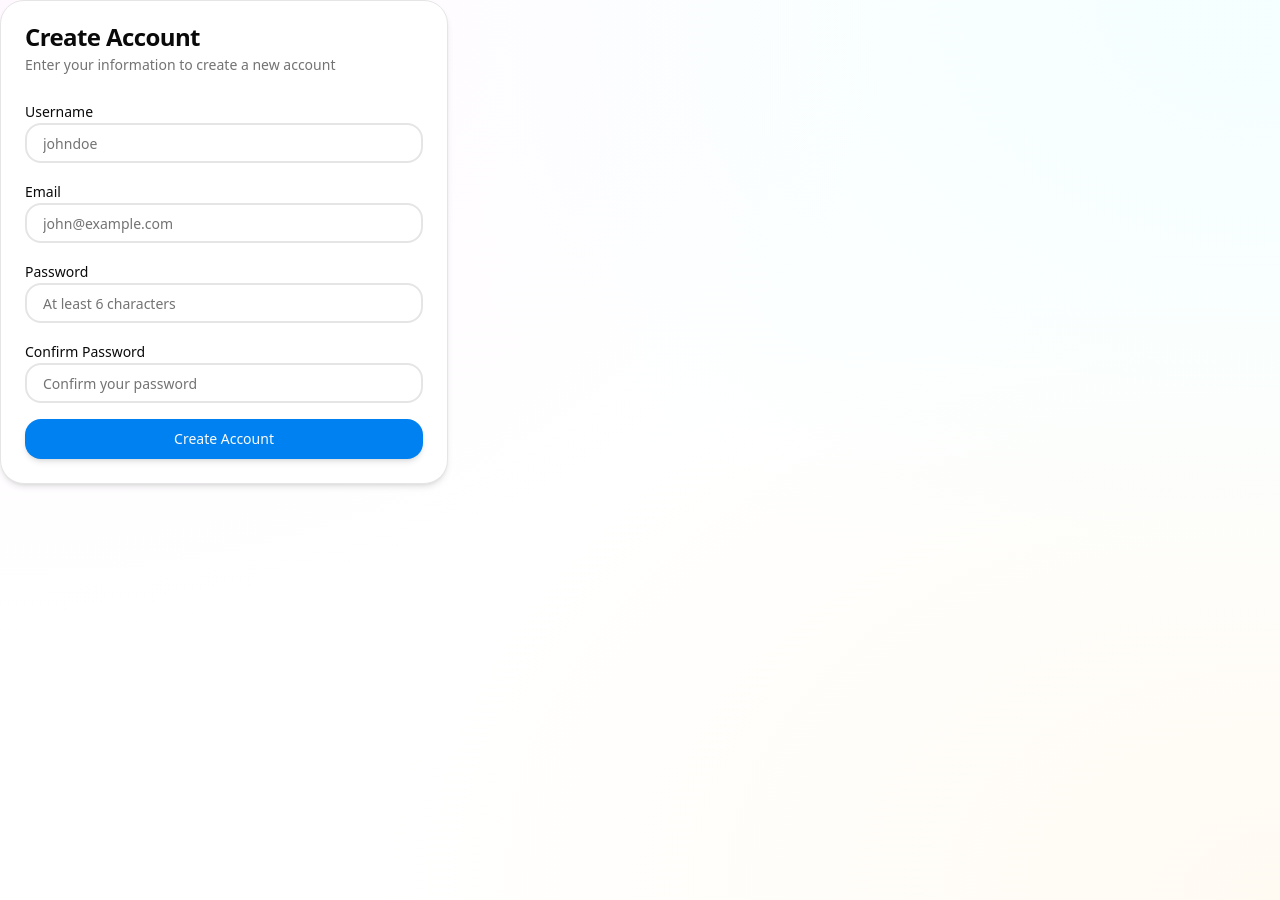
Test: RegisterForm › should validate username minimum length
The image size is (1280, 900).
Type "ab" into the field labelled "Username" at (224, 143), box [25, 123, 423, 163]
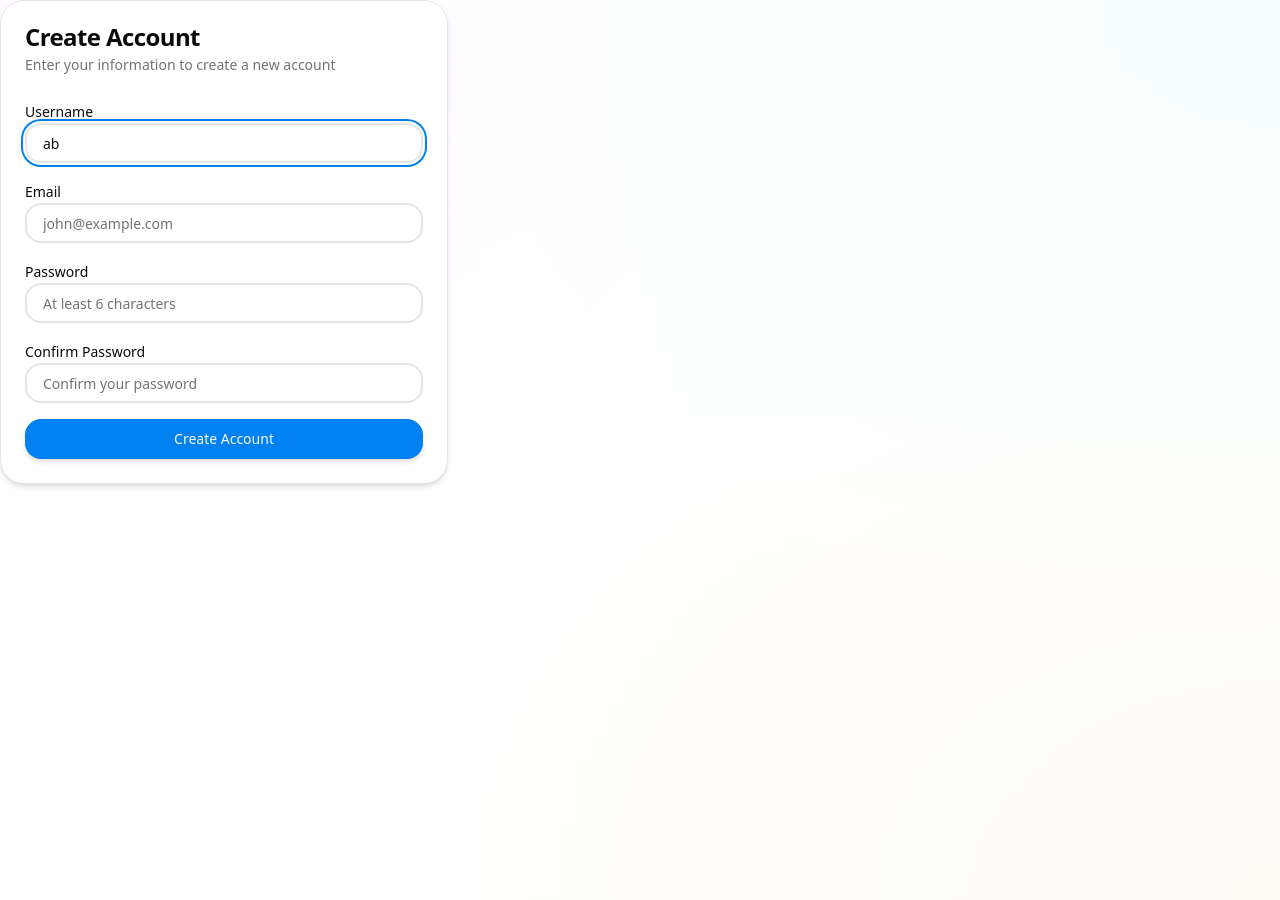
Click the button "Create Account" at (224, 439), box [25, 419, 423, 459]
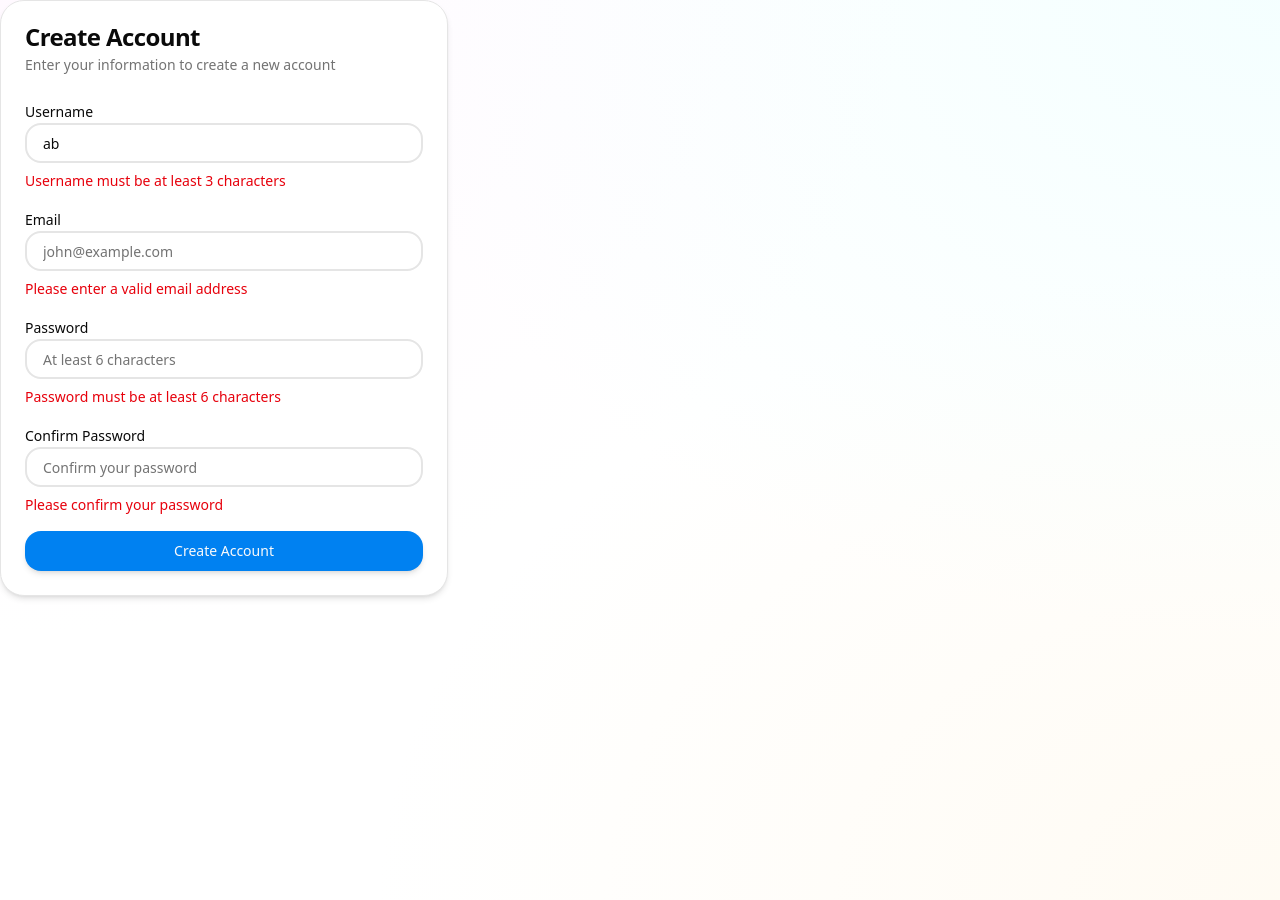
Now the text "Username must be at least 3 characters" is shown, box [25, 171, 286, 190]
